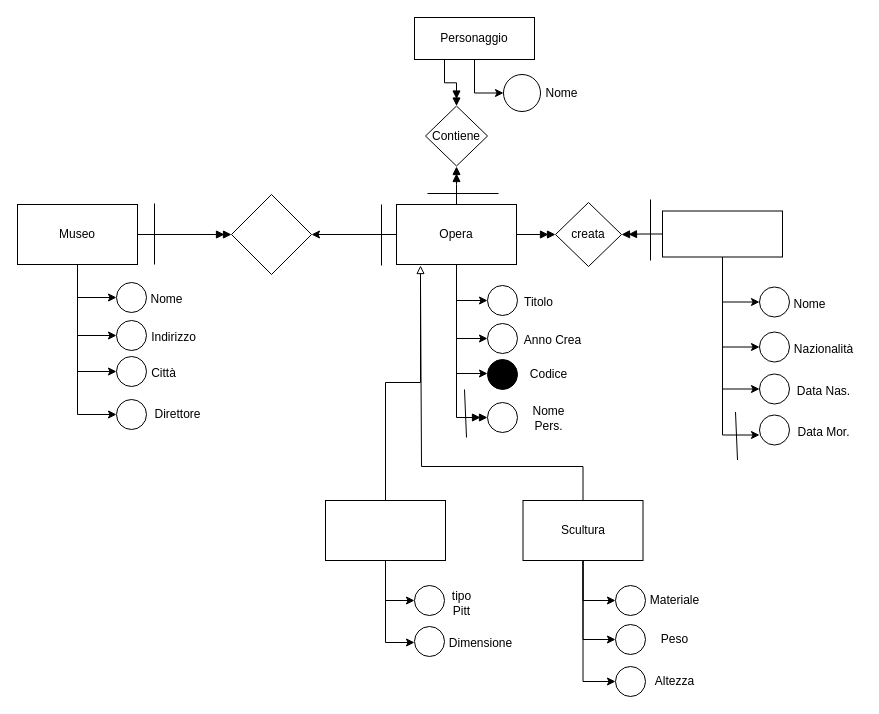
This 879x714 diagram has some shape labels left out. The shapes that lost their labels are listed below. From the top down, each one's centre as x and y in pixels, then its label:
point (271, 234): Ospita
point (722, 233): Artista
point (385, 530): Dipinto
